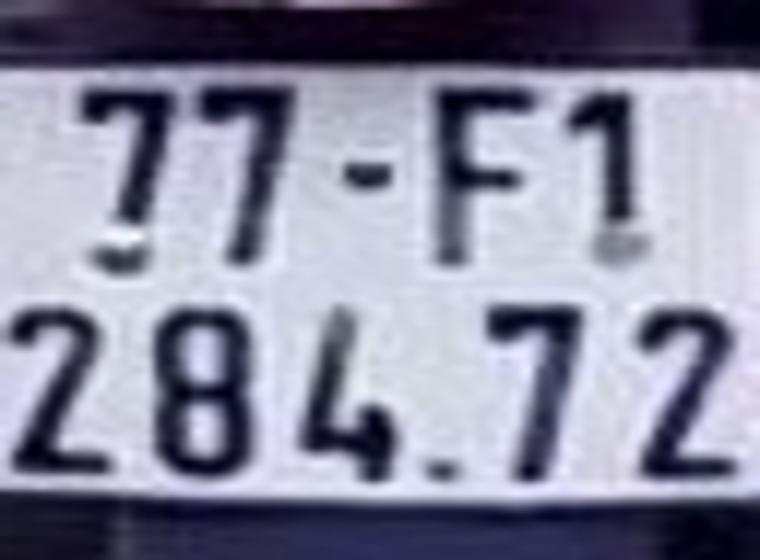-: (334, 158, 396, 199)
.: (429, 458, 458, 482)
1: (572, 90, 645, 258)
2: (631, 304, 740, 482), (4, 308, 110, 475)
4: (295, 306, 402, 480)
7: (75, 83, 174, 275), (196, 81, 292, 266), (486, 302, 581, 488)
8: (152, 307, 254, 480)
F: (431, 86, 533, 262)
